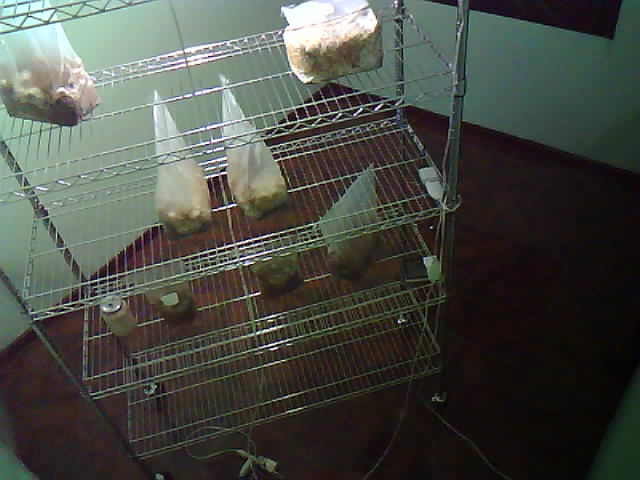bloco: (1, 3, 109, 126), (206, 77, 298, 211), (143, 91, 216, 238), (321, 156, 403, 281), (268, 3, 383, 82), (135, 259, 203, 340), (230, 248, 312, 305)
